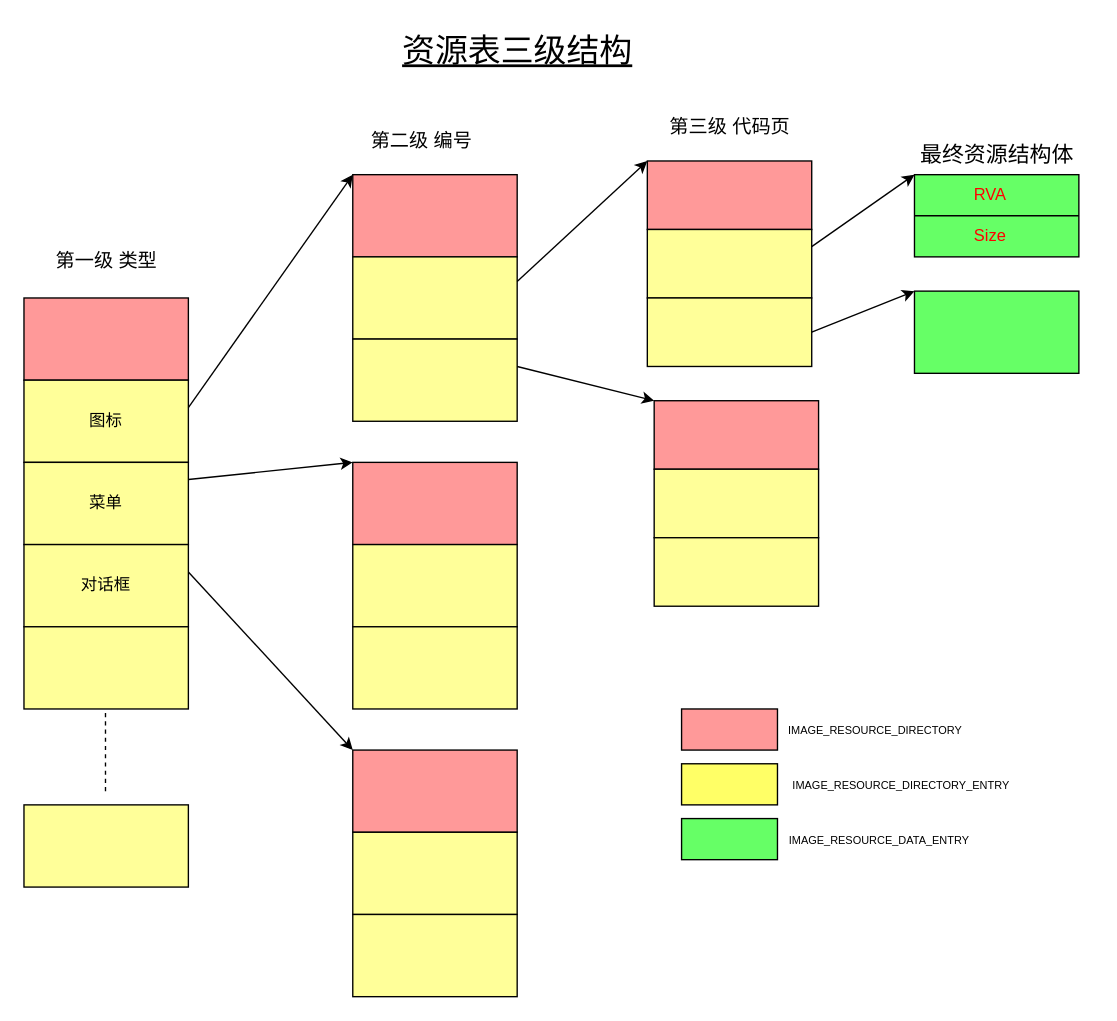
Image size: 1117x1021. Some labels were removed from this diagram. The shapes that lost their labels are listed below. From the top down, each one's centre as x and y in pixels, then its label:
At pixel 105 338: "资源目录".
At pixel 105 667: "字符串".
